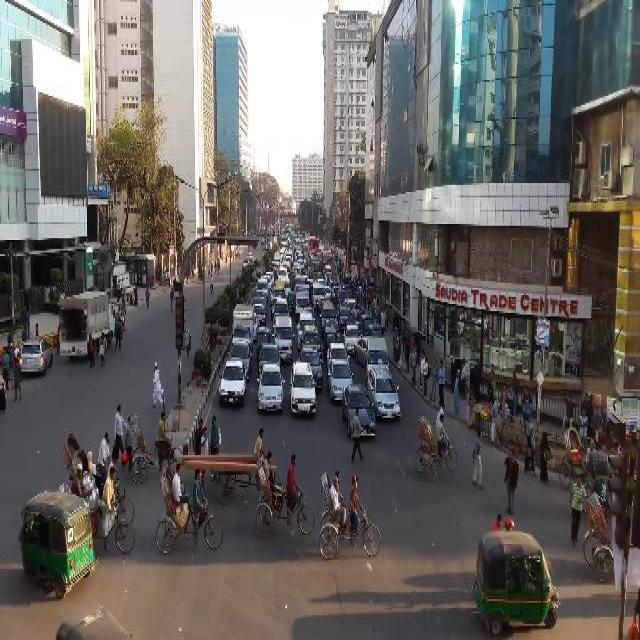vehicle: (473, 531, 563, 634), (17, 491, 100, 599), (177, 430, 280, 504), (320, 470, 380, 564), (156, 464, 223, 548), (256, 452, 316, 538), (65, 432, 128, 505), (129, 411, 186, 484), (58, 291, 116, 358), (584, 492, 617, 584), (415, 415, 457, 479), (561, 428, 596, 492), (342, 383, 377, 440), (367, 367, 401, 421), (289, 361, 317, 416), (256, 365, 286, 413), (220, 359, 247, 407), (19, 340, 53, 377), (329, 357, 355, 402), (272, 316, 294, 366), (273, 315, 295, 363), (299, 346, 323, 388), (367, 336, 389, 381), (232, 303, 254, 346), (227, 340, 252, 377), (300, 326, 323, 362), (297, 310, 315, 351), (328, 342, 350, 372), (320, 301, 339, 335), (344, 324, 362, 354), (296, 283, 310, 320), (273, 298, 291, 323), (325, 327, 338, 361), (312, 282, 326, 307), (338, 285, 353, 308), (274, 279, 286, 306), (310, 253, 323, 276), (257, 276, 270, 298), (362, 313, 374, 336), (339, 306, 351, 329), (348, 308, 362, 327), (254, 303, 266, 325), (322, 248, 333, 271), (369, 323, 385, 337), (310, 236, 319, 254), (197, 266, 205, 284), (265, 270, 275, 283), (278, 267, 288, 279), (294, 238, 302, 252), (255, 295, 266, 304), (254, 291, 267, 298), (294, 275, 306, 282), (274, 254, 282, 264), (294, 262, 301, 273), (271, 262, 279, 271), (284, 259, 291, 269), (243, 259, 250, 269)
